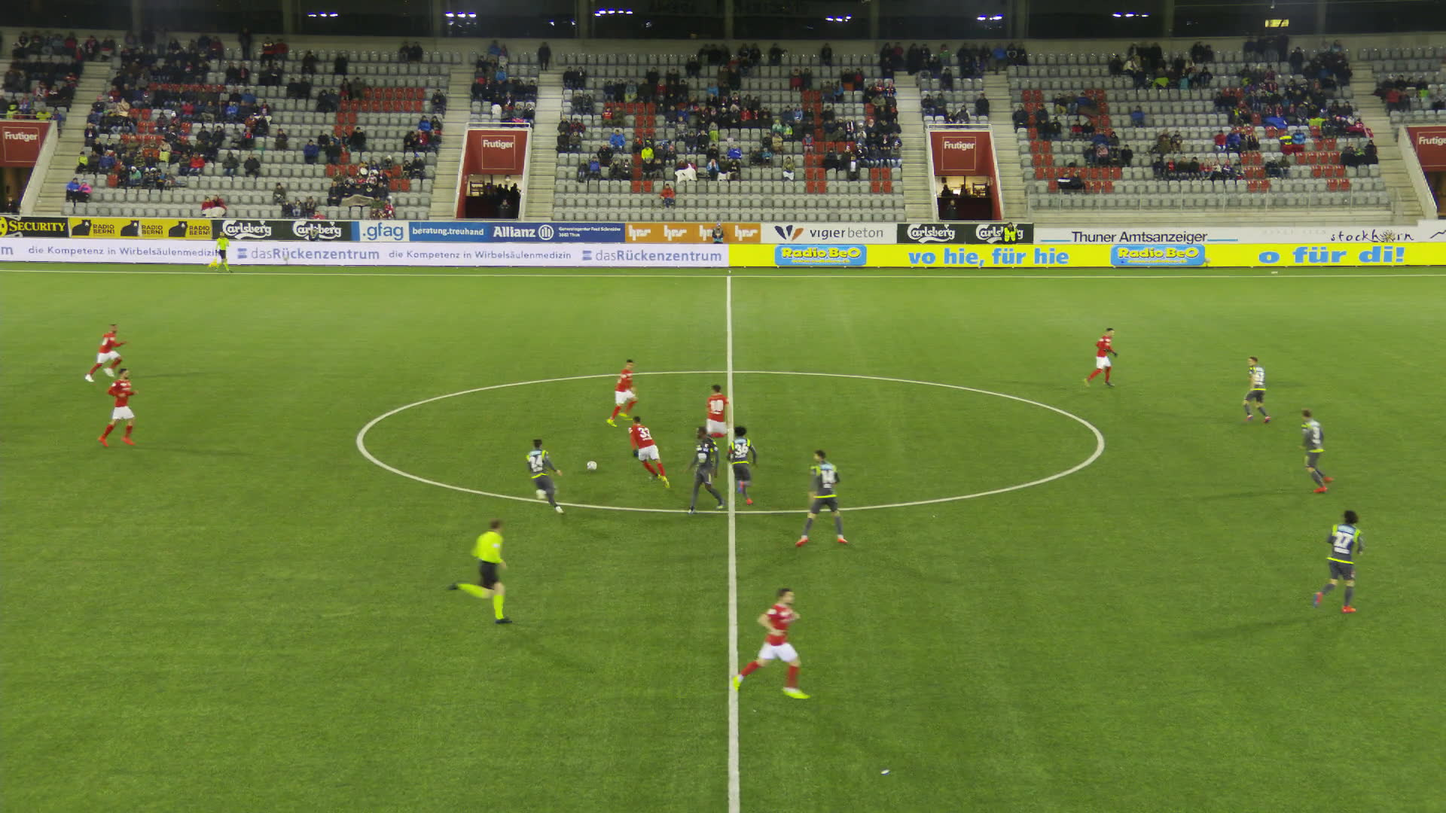ball: (586, 459, 598, 472)
player: (725, 586, 799, 701), (1303, 506, 1359, 615), (789, 446, 847, 550), (1292, 403, 1335, 493), (684, 425, 727, 514), (93, 367, 139, 449), (520, 437, 568, 514), (626, 415, 670, 490), (720, 424, 756, 507), (82, 322, 130, 382), (691, 380, 734, 446), (1234, 355, 1270, 425), (1081, 327, 1116, 389), (604, 358, 635, 426)
referee: (438, 516, 509, 623), (207, 230, 233, 273)
